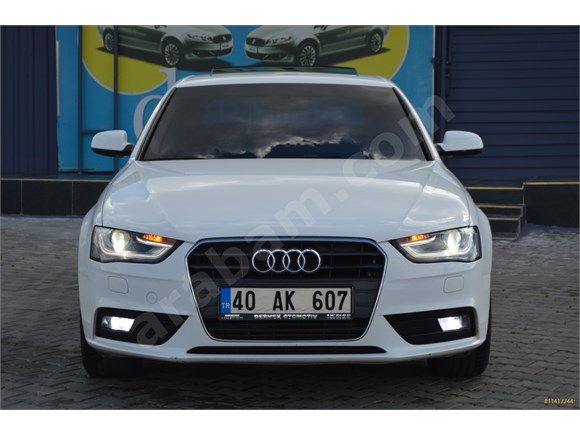audi: (246, 243, 325, 280)
